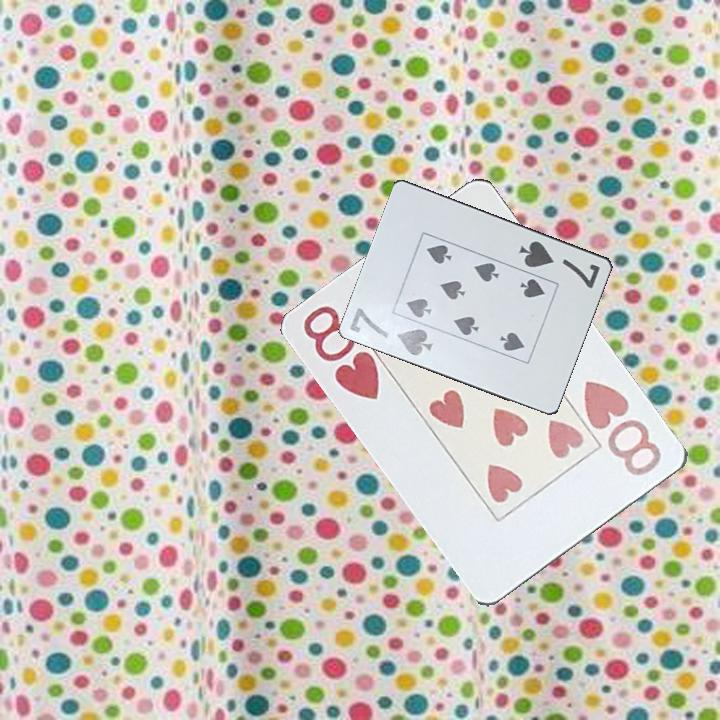7s: (346, 304, 436, 359), (515, 237, 603, 292)
8h: (580, 377, 666, 480), (300, 302, 384, 403)
